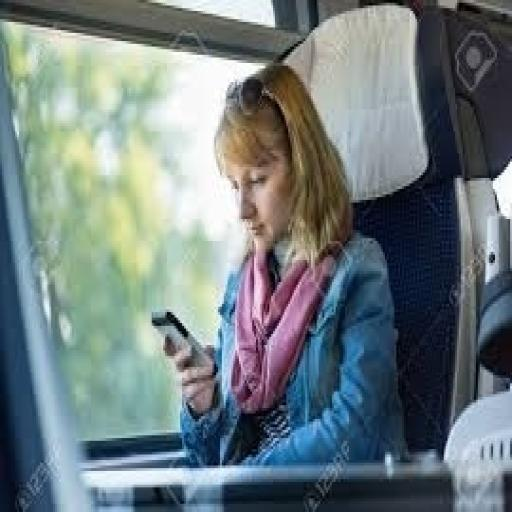calling: (159, 60, 410, 474)
